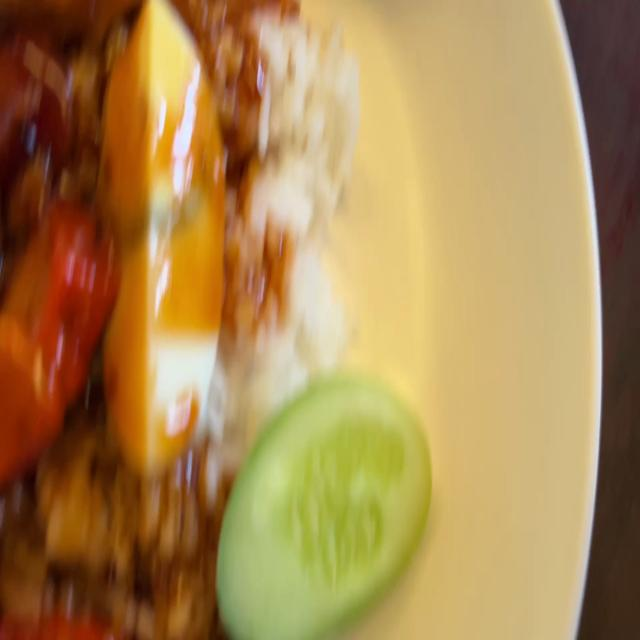01boiled_egg: (101, 2, 222, 472)
01chainese_sausage: (0, 0, 81, 164)
01red_pork: (0, 192, 113, 470)
01red_pork_and_crispy_pork: (0, 0, 440, 640)
cucumber: (220, 364, 437, 636)
